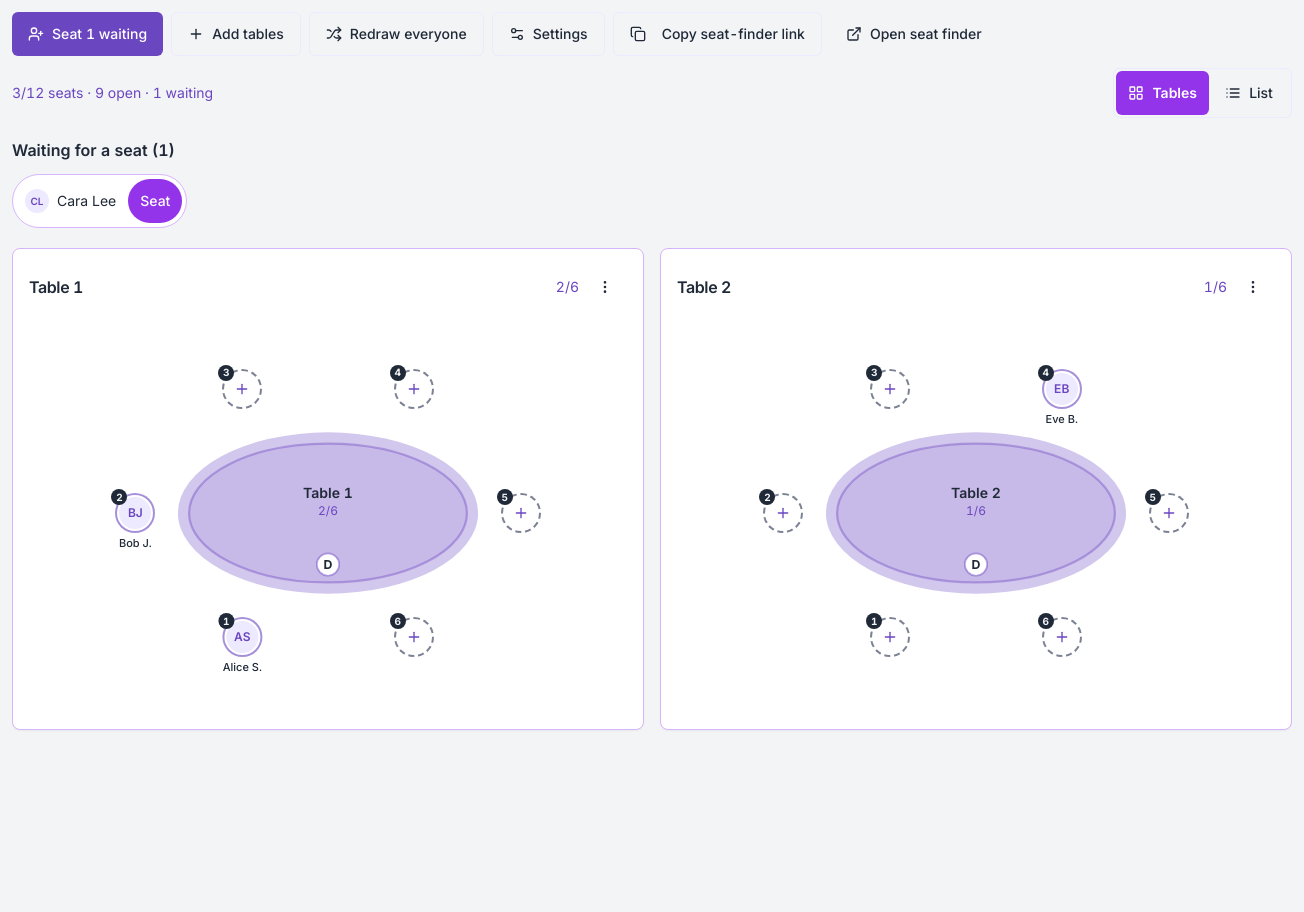
Scenario: SeatingPanel: moving players by hand › moves a seated player to the empty seat tapped next
This screenshot has width=1304, height=912.
What coordinates should you click on to do the following:
click the button with aria-label "Seat 1: Alice Smith"
I would click on:
 (242, 646)
Its box is [219, 617, 266, 675].
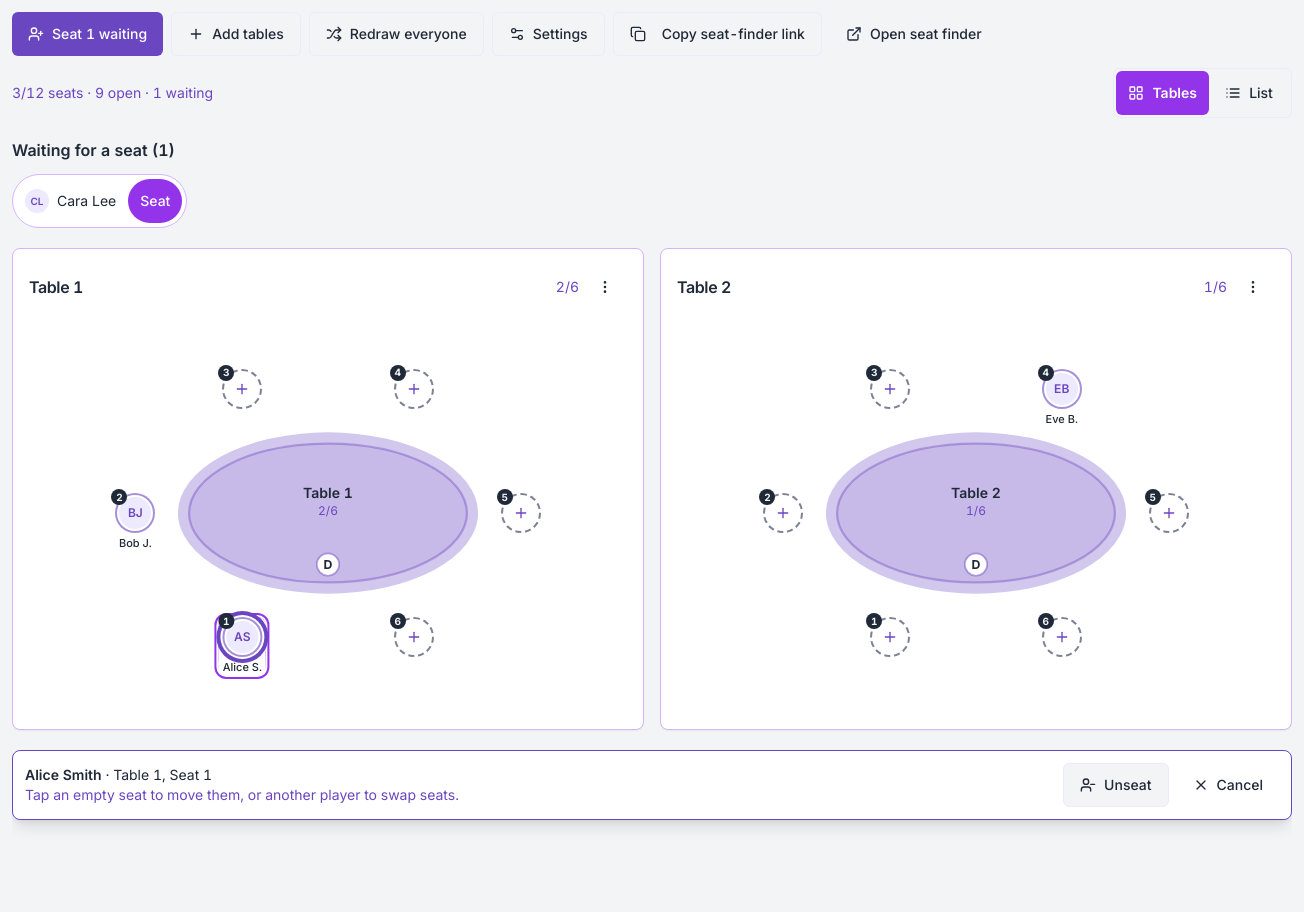
Result: the element named "Selected player" shows "Alice Smith · Table 1, Seat 1" at [12, 750, 1292, 820]
What coordinates should you click on to do the following:
click the 2nd button "3"
I would click on:
 (890, 398)
Its box is [868, 369, 912, 427].
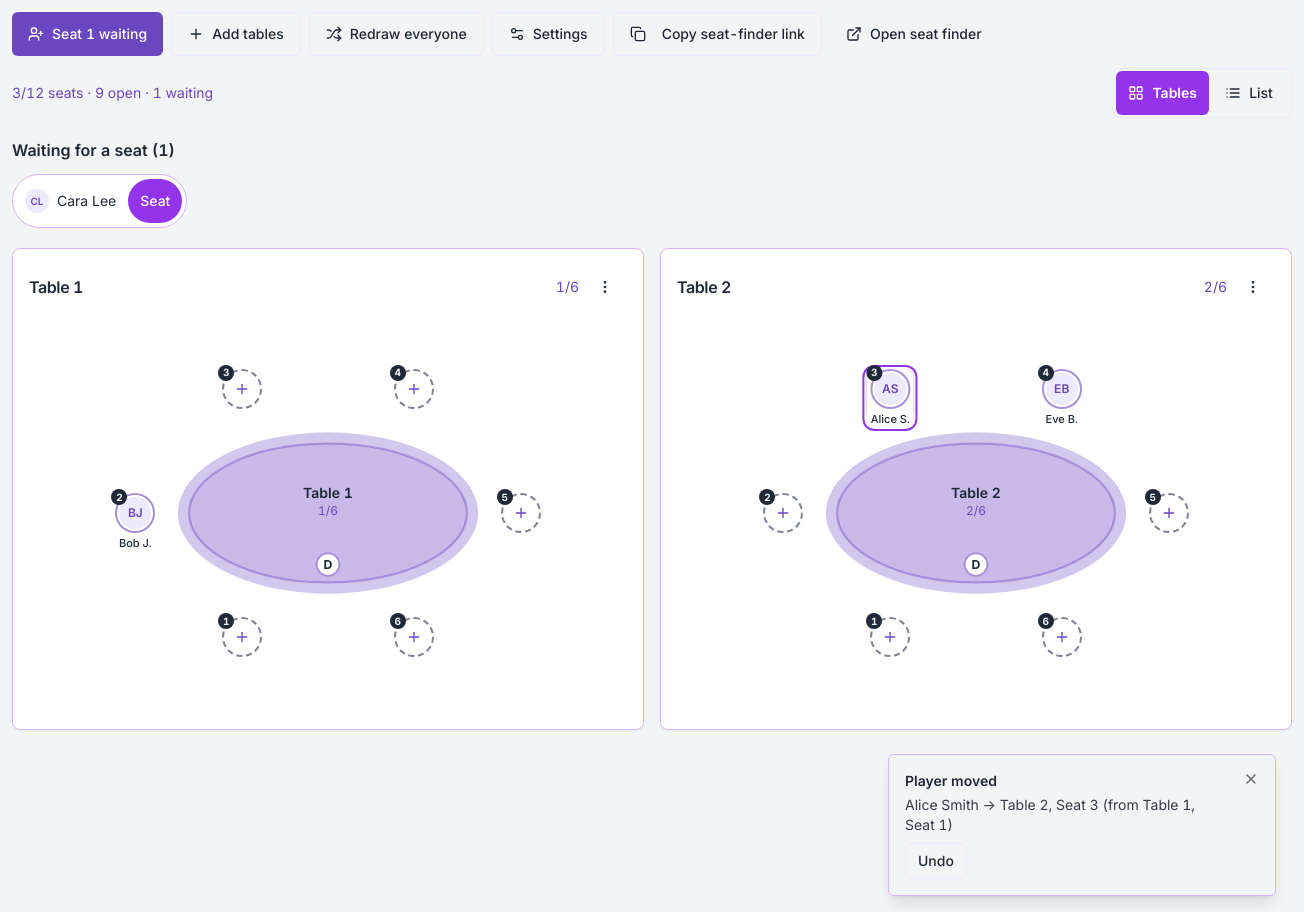
Result: the text "Player moved" is shown at [905, 772, 997, 789]
Result: the text "Alice Smith → Table 2, Seat 3 (from Table 1, Seat 1)" is shown at [905, 795, 1227, 835]
